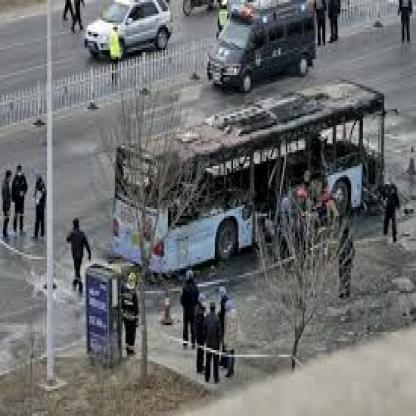accident: (94, 87, 416, 287)
